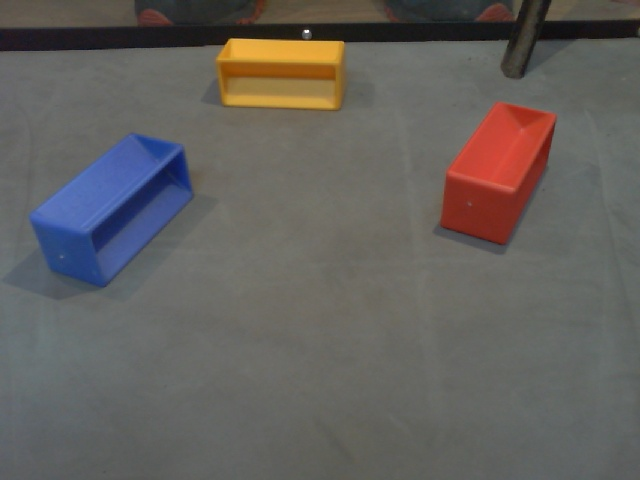BlueSample: (30, 127, 196, 288)
RedSample: (437, 96, 556, 247)
YellowSample: (214, 34, 348, 117)
